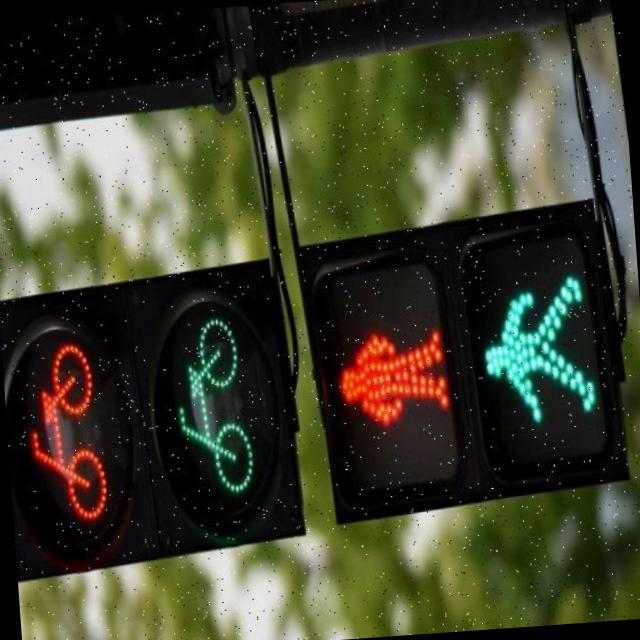green_light: (469, 241, 618, 477)
red_light: (322, 270, 470, 483)
